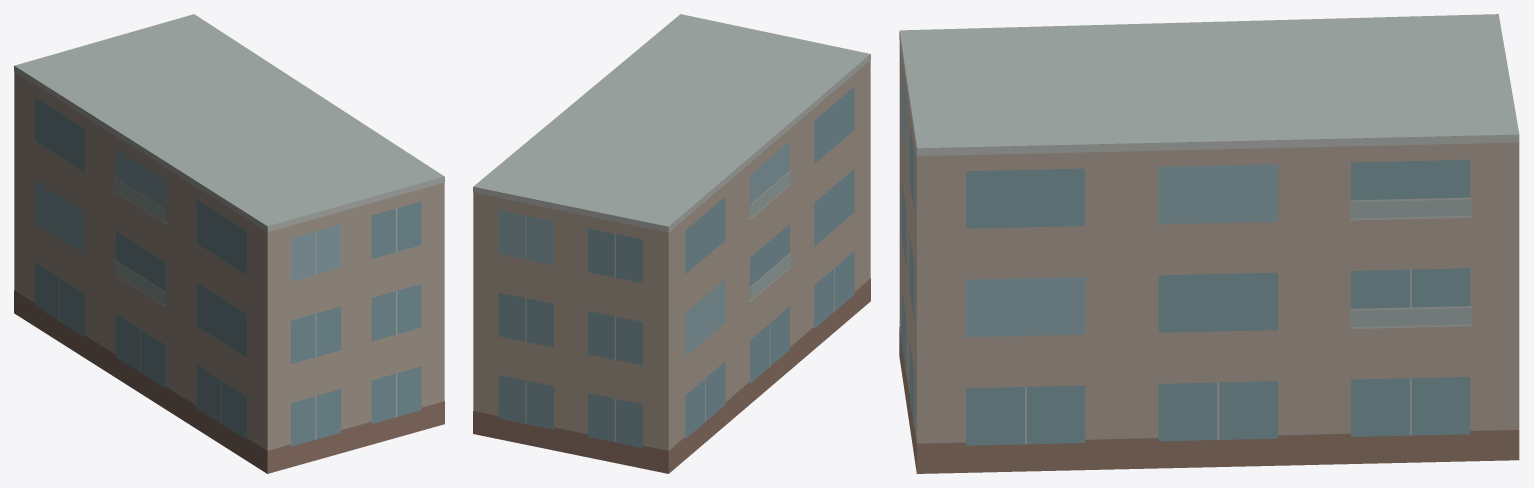
File: survey-upis-32740742.glb
The picture shows the model from 3 angles, left to right: view 1: azimuth 30°, elevation 25°; view 2: azimuth 150°, elevation 25°; view 3: azimuth 270°, elevation 25°; orthographic projection. The views are drawn at different scales.
Parts seen in each view (by area): view 1: survey-upis-32740742.tmp; view 2: survey-upis-32740742.tmp; view 3: survey-upis-32740742.tmp.
Part boxes in pixels (bbox=[...]): survey-upis-32740742.tmp: bbox=[14, 14, 444, 473]; survey-upis-32740742.tmp: bbox=[473, 14, 870, 473]; survey-upis-32740742.tmp: bbox=[899, 14, 1519, 473].
Size of the model in its own units: 8.94 by 10.1 by 17.44.
